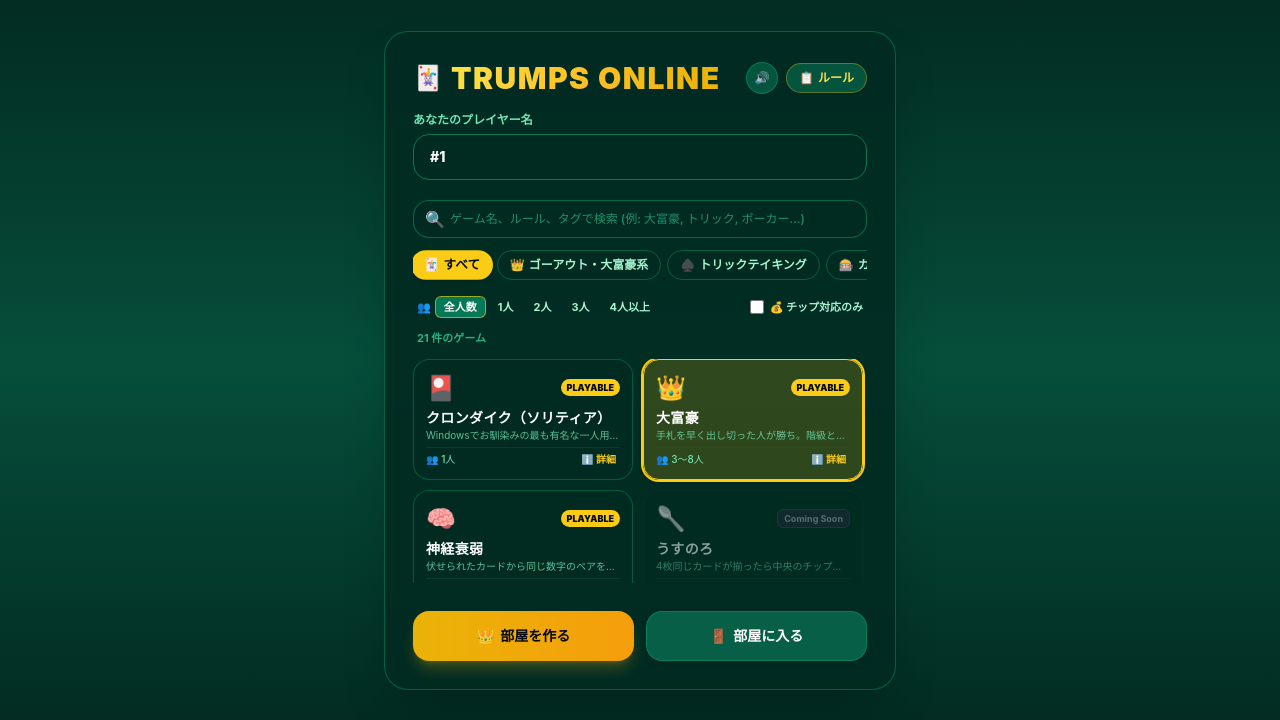
Test case: LobbyScreen Component › ルールボタンをクリックするとルール確認モーダルが開くこと
Click the button with test id "open-rules-button": coordinates (826, 78) x1=786 y1=62 x2=867 y2=92
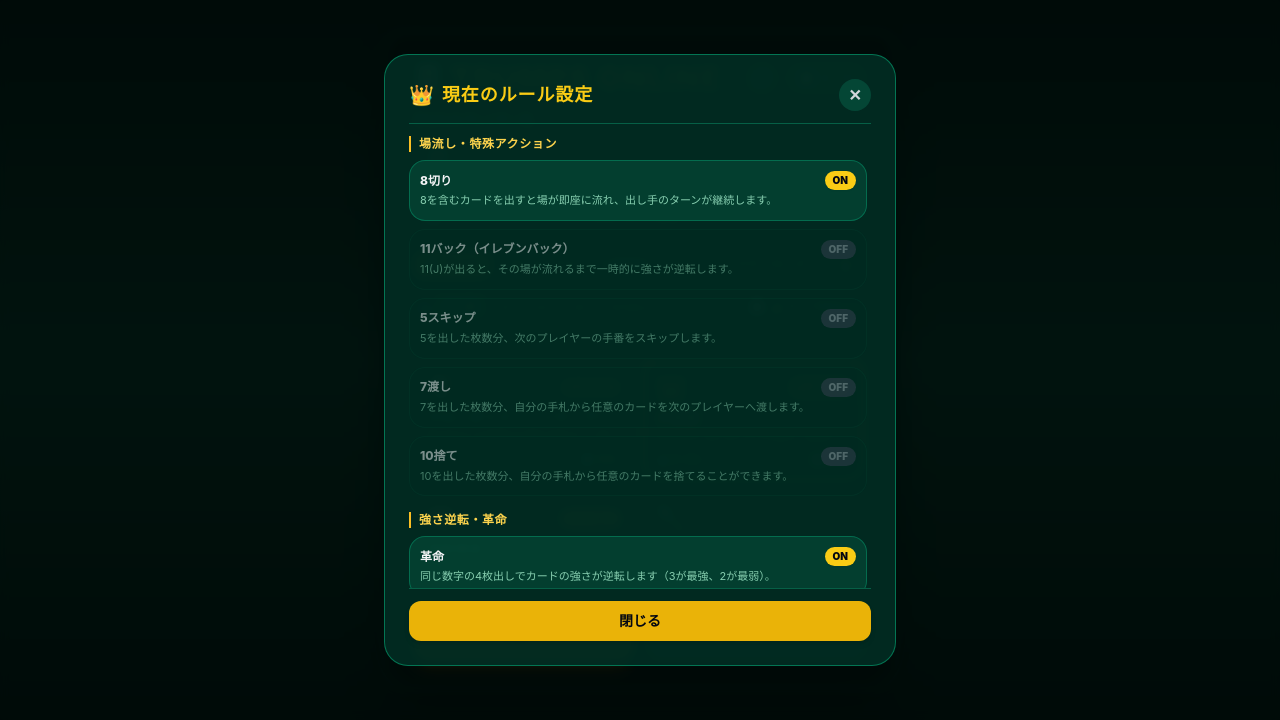
Check: the dialog with test id "rules-modal" is shown
Check: the heading "現在のルール設定" is shown, box x1=442 y1=81 x2=593 y2=109
